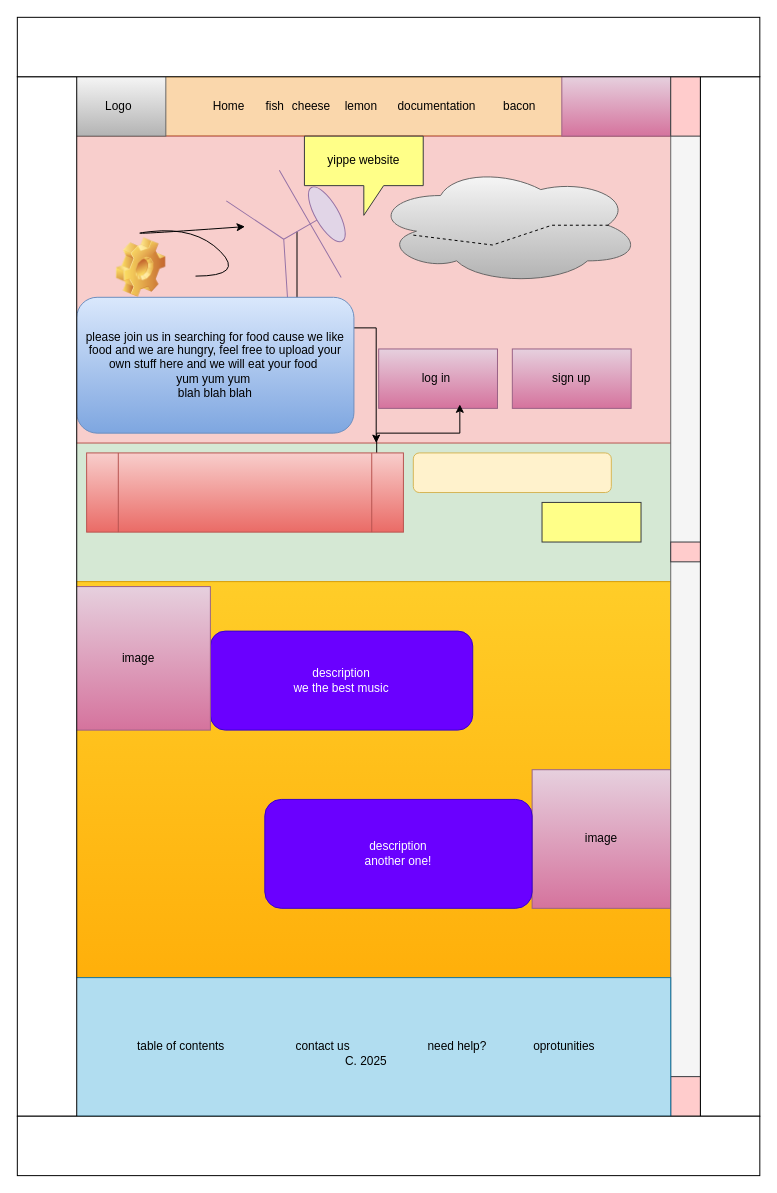
This 777x1193 diagram has some shape labels left out. The shapes that lost their labels are listed below. From the top down, each one's centre as x and y in pixels, then its label:
[621,106]: log in / sign up image, "profile " if signed in
[685,106]: scroll
[507,225]: cloud splitting designs
[244,492]: food scroll with preview recipies
[511,472]: we are committed to excellence #Cancled
[591,521]: Learn More...
